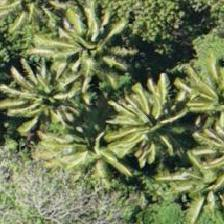coconut_tree: (43, 105, 133, 195), (114, 68, 204, 158), (79, 0, 169, 85), (0, 51, 77, 141), (156, 36, 223, 126)
